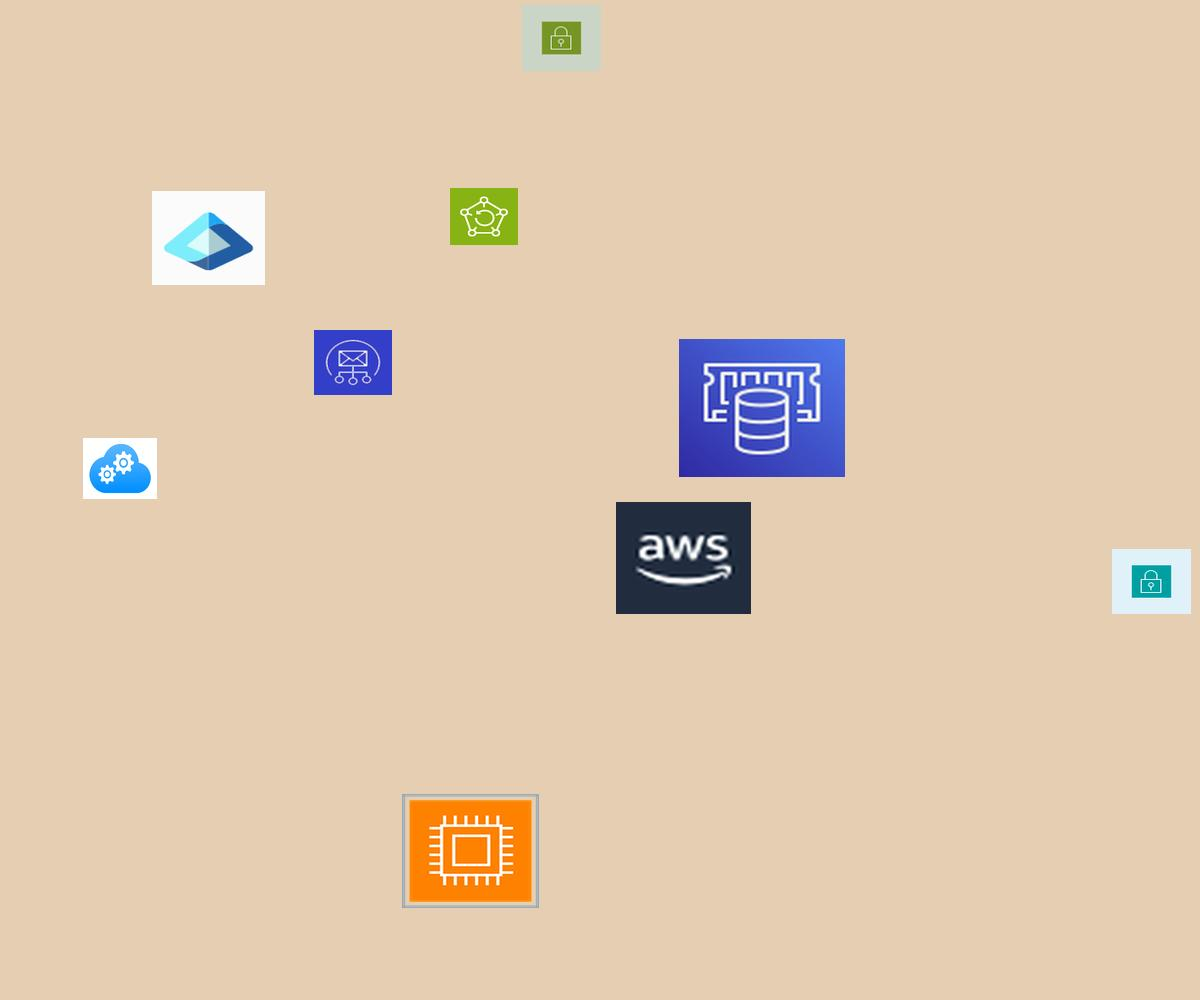AWS-Backup: (450, 188, 518, 245)
AWS-Category_Compute: (402, 794, 539, 908)
AWS-Cloud-logo: (616, 502, 751, 614)
AWS-ElastiCache: (679, 339, 845, 477)
AWS-Private-subnet: (1112, 549, 1191, 614)
AWS-Public-subnet: (522, 5, 601, 71)
AWS-Simple-Email-Service: (314, 330, 392, 395)
Azure_cloud_services: (83, 438, 157, 499)
Azure_microsoft_entra: (152, 191, 265, 285)
